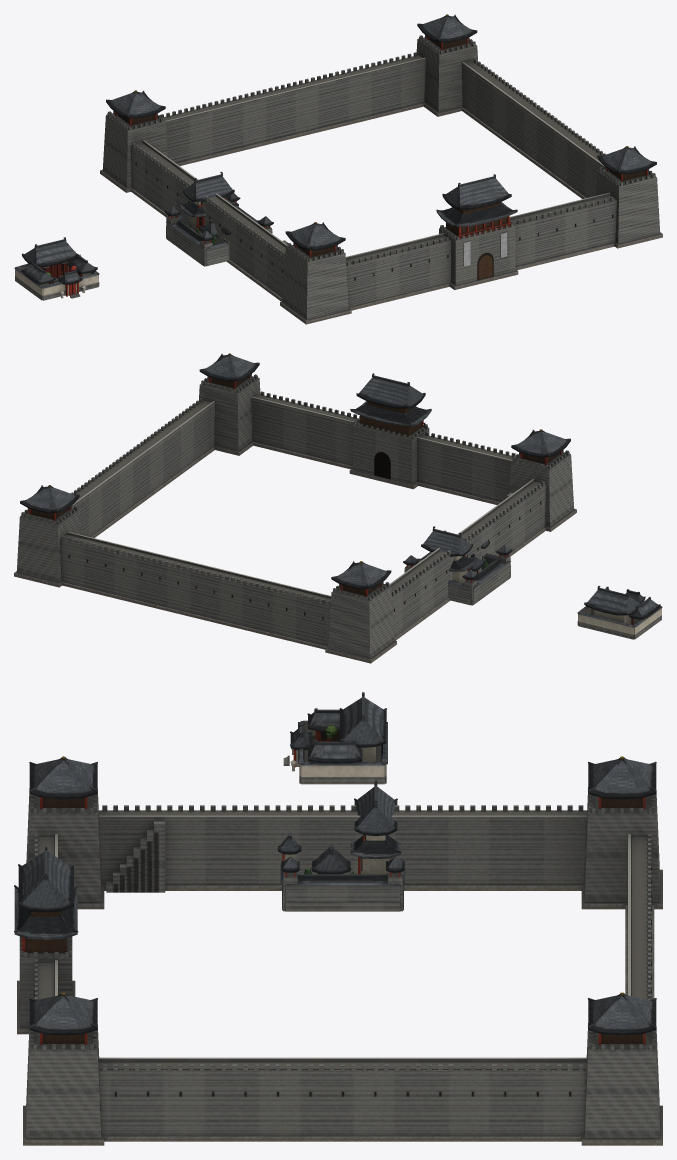
The model's file is shared-kingdoms-sinic.glb.
The picture shows the model from 3 angles, top to bottom: view 1: azimuth 30°, elevation 25°; view 2: azimuth 150°, elevation 25°; view 3: azimuth 270°, elevation 25°; orthographic projection. The views are drawn at different scales.
Parts seen in each view (by area): view 1: LOD0.002, LOD0.001, LOD0; view 2: LOD0.002, LOD0.001, LOD0; view 3: LOD0.002, LOD0.001, LOD0.
Part boxes in pixels (bbox=[...]): LOD0.002: bbox=[100, 14, 662, 324]; LOD0.001: bbox=[164, 171, 273, 266]; LOD0: bbox=[14, 237, 99, 300]; LOD0.002: bbox=[14, 353, 576, 663]; LOD0.001: bbox=[403, 526, 512, 605]; LOD0: bbox=[577, 586, 662, 639]; LOD0.002: bbox=[14, 756, 662, 1145]; LOD0.001: bbox=[276, 780, 404, 911]; LOD0: bbox=[283, 692, 387, 784].
Size of what is drawn, in the model's own units: 9.85 by 1.71 by 6.69.
3 materials, 3 textured.
